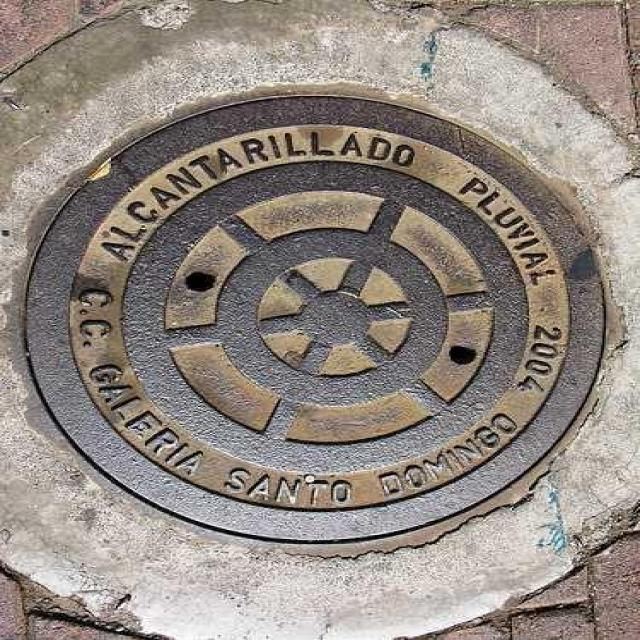manhole: (19, 84, 609, 553)
